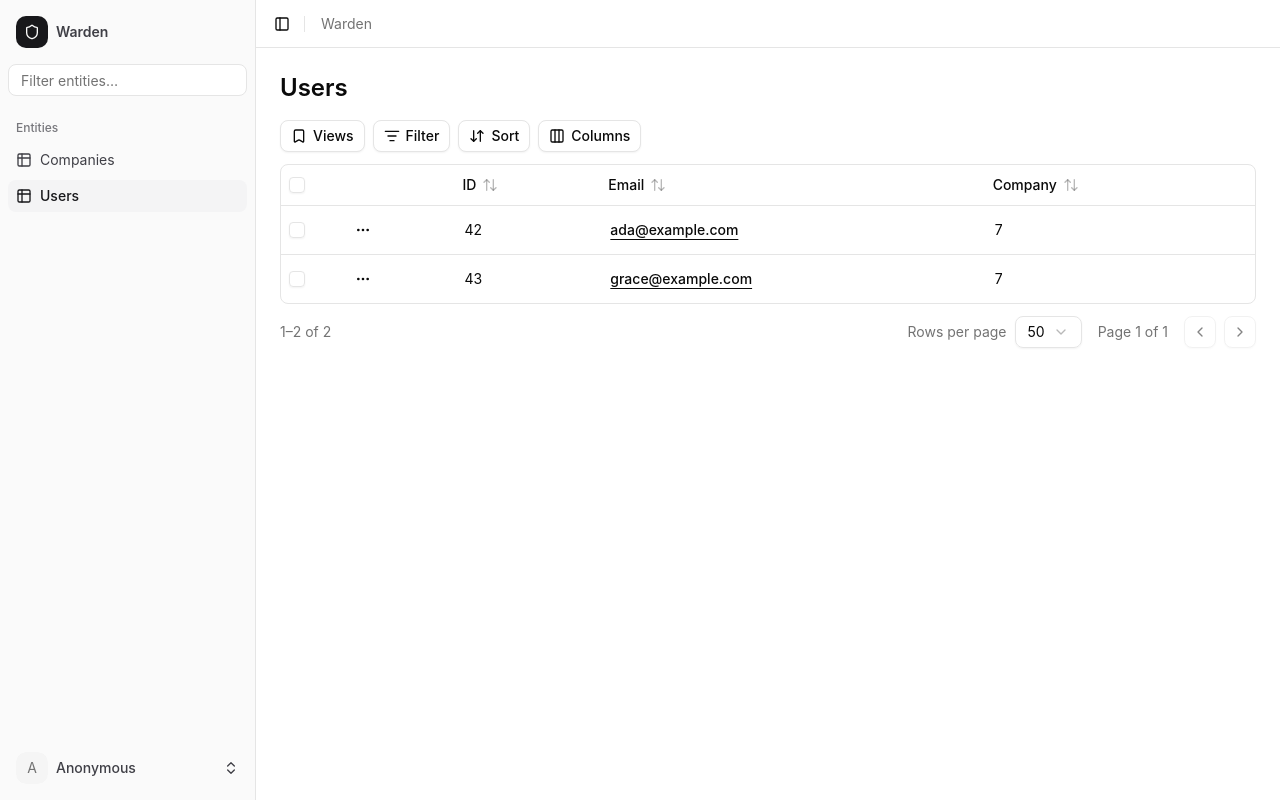
Scenario: actions on the grid › runs a bulk action on the selected rows
Expected: the button named "Actions for ada@example.com" is shown, [348,214,380,246]
Click the checkbox named "Select all rows on this page" at (297, 185), box [289,177,305,193]
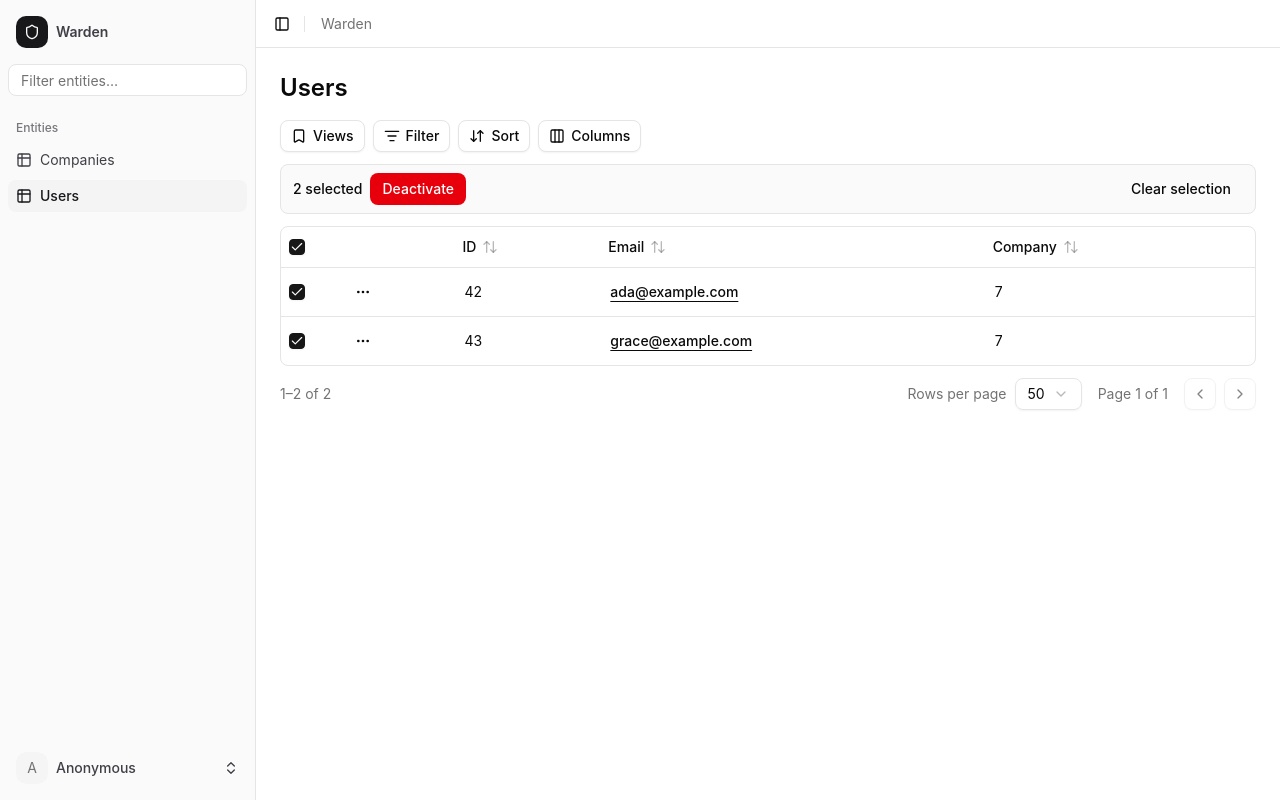
Expected: the element named "Selected rows" shows "2 selected", [280,164,1256,214]
Click the button "Deactivate" at (418, 189), box [370,173,466,205]
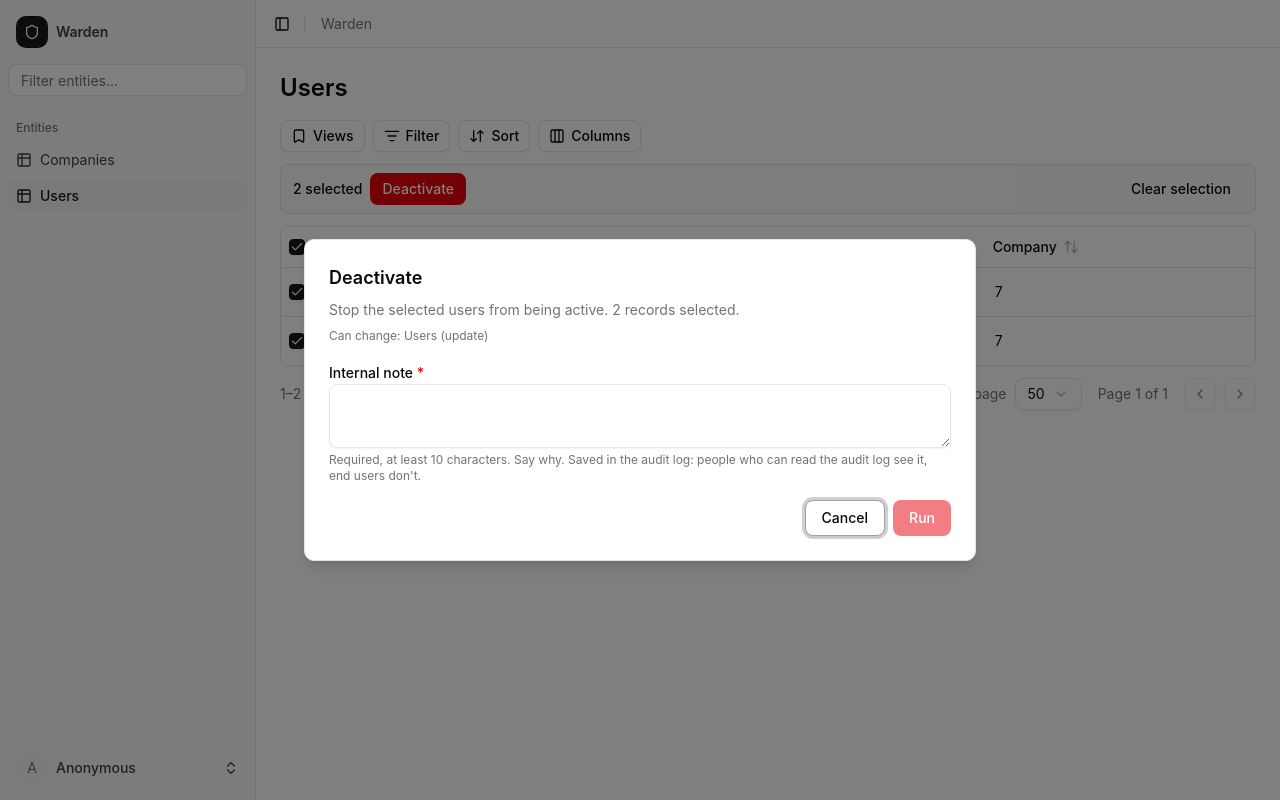
Expected: the dialog "Deactivate" shows "2 records selected.", [608,301,740,318]
Expected: the button "Run" is disabled, [893,500,951,536]
Type "  left   " into the text box labelled "Internal note" at (640, 416), box [329,384,951,448]
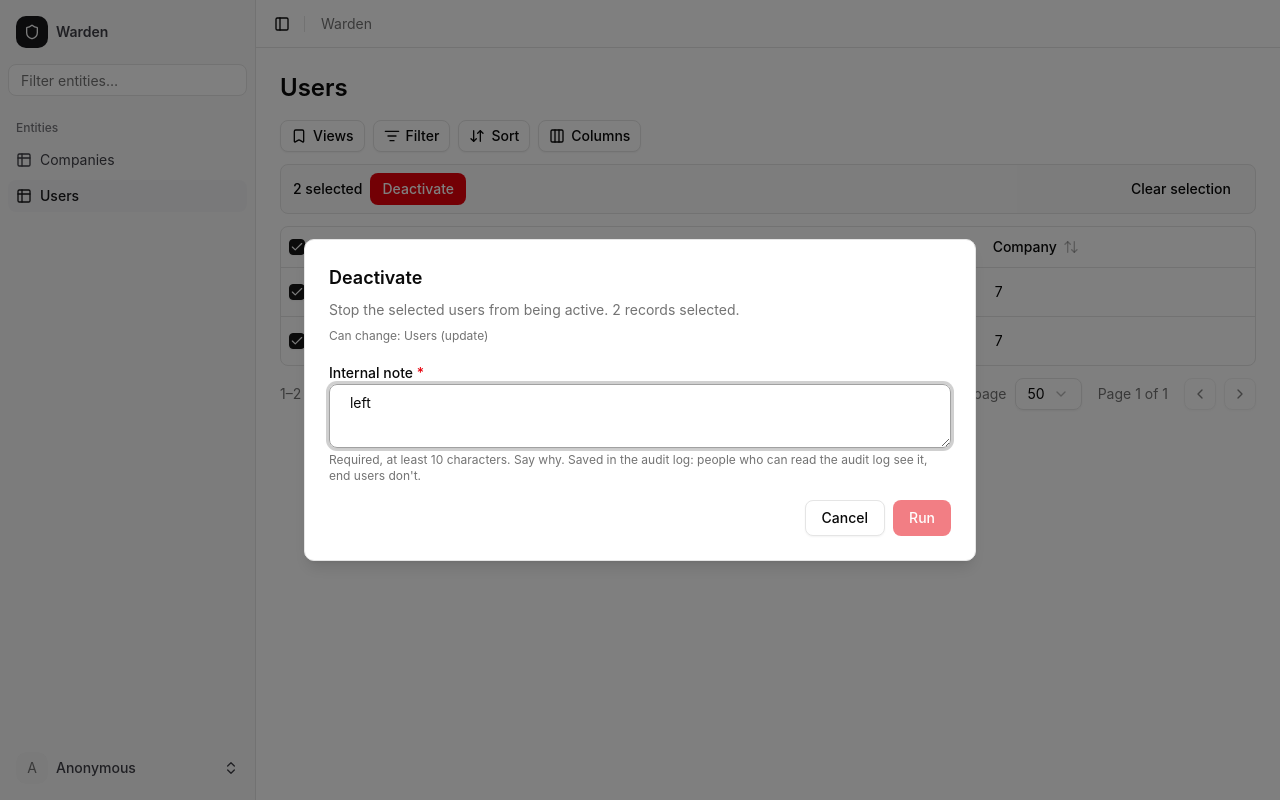
Expected: the button "Run" is disabled, [893,500,951,536]
Replace the text in the text box labelled "Internal note" with "left the company" at (640, 416), box [329,384,951,448]
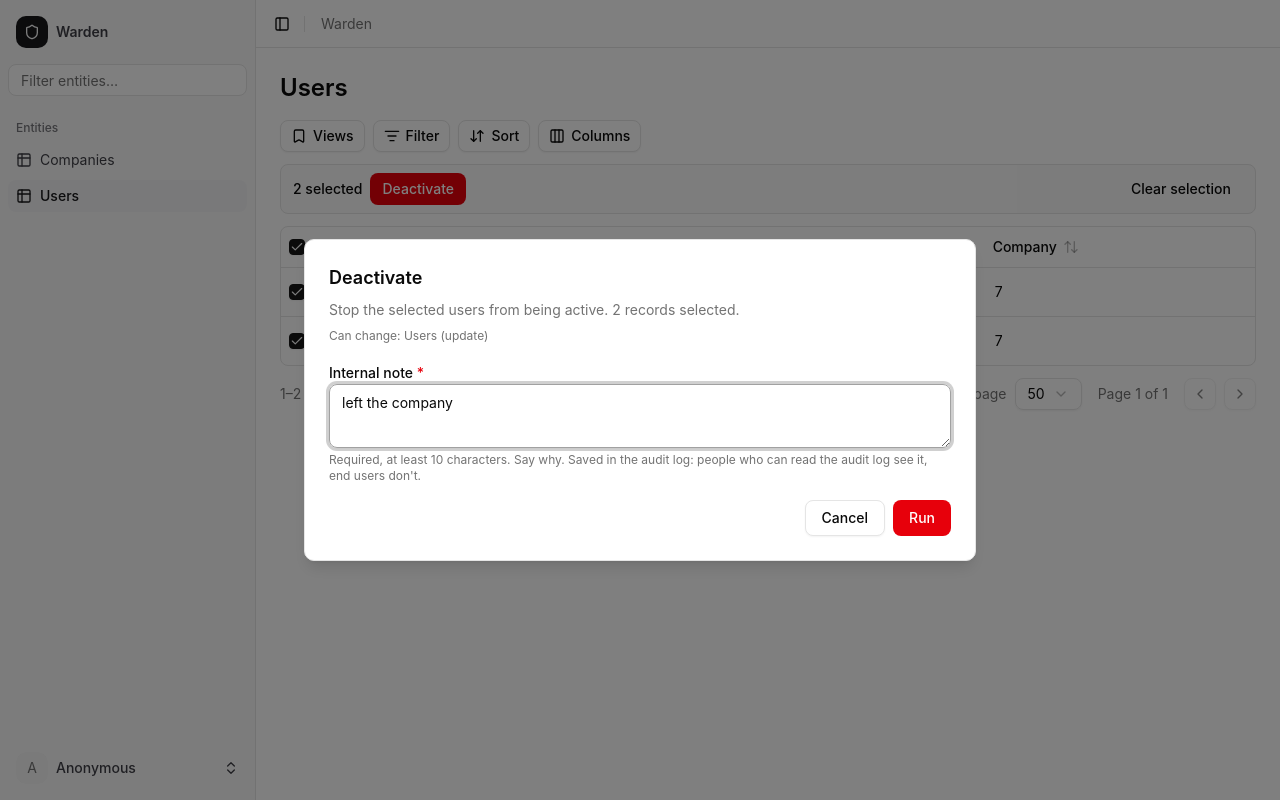
Click the button "Run" at (922, 518), box [893,500,951,536]
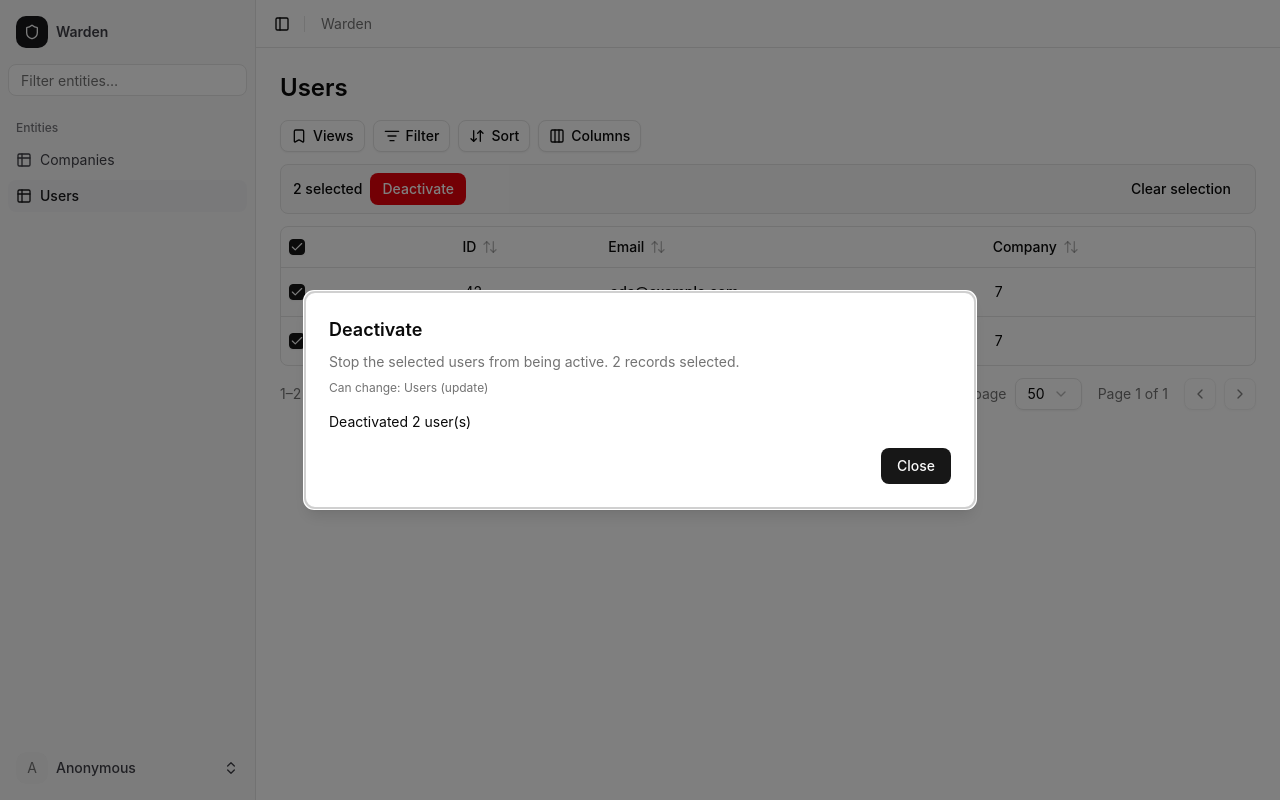
Expected: the message reads "Deactivated 2 user(s)", [329,413,471,430]
